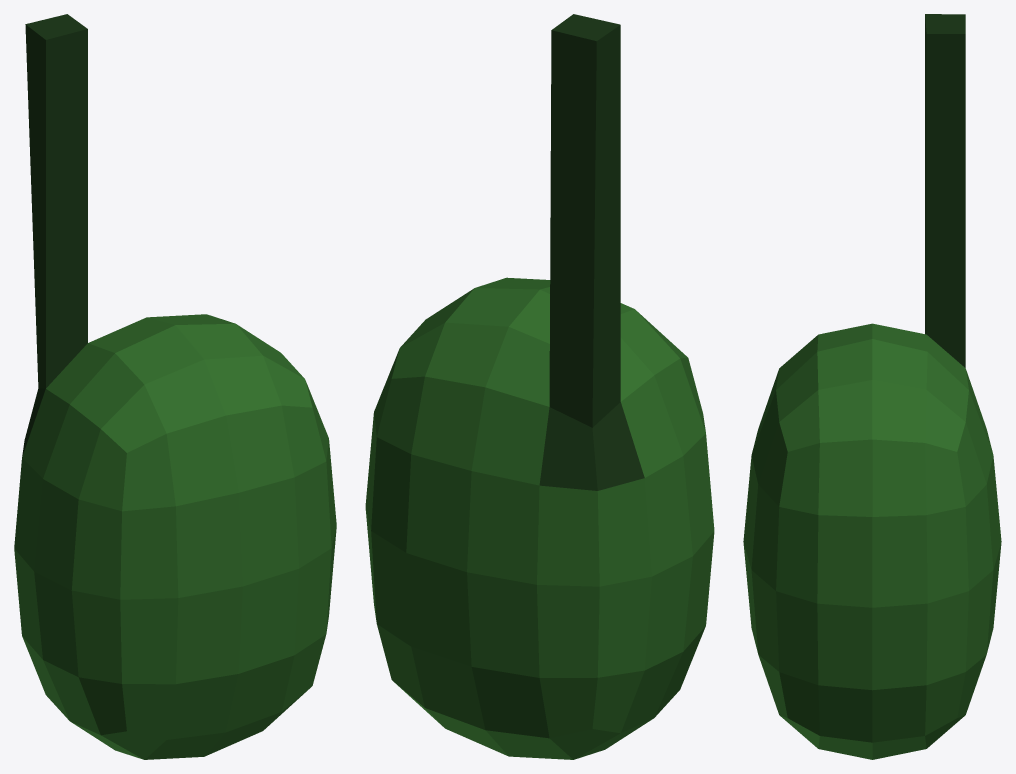
The model's file is backpack_10.fbx.
3 views of the same model, side by side, from view 1: azimuth 30°, elevation 25°; view 2: azimuth 150°, elevation 25°; view 3: azimuth 270°, elevation 25° (orthographic). The views are drawn at different scales.
Visible parts, largest first — view 1: Cube.016; view 2: Cube.016; view 3: Cube.016.
Part boxes in pixels (<box>): Cube.016: <box>14,14,336,759</box>; Cube.016: <box>365,14,714,759</box>; Cube.016: <box>743,14,1001,759</box>.
Bounding box in the file's own units: 42.35 × 102 × 35.
